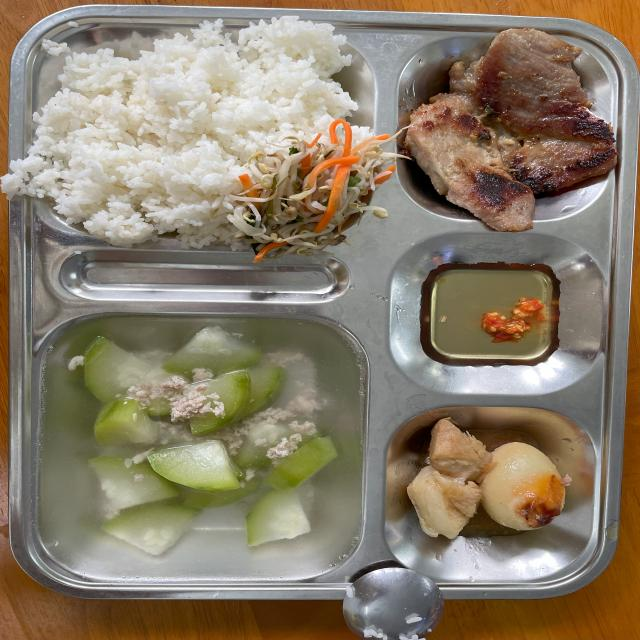thit_kho_trung: (420, 430, 572, 546)
